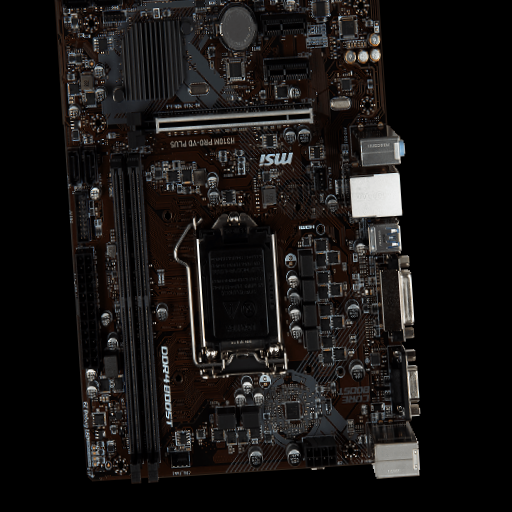CPU: (191, 214, 291, 380)
GPU: (132, 107, 314, 143)
MOTHERBOARD: (52, 1, 421, 482)
RAM: (109, 152, 162, 487)
